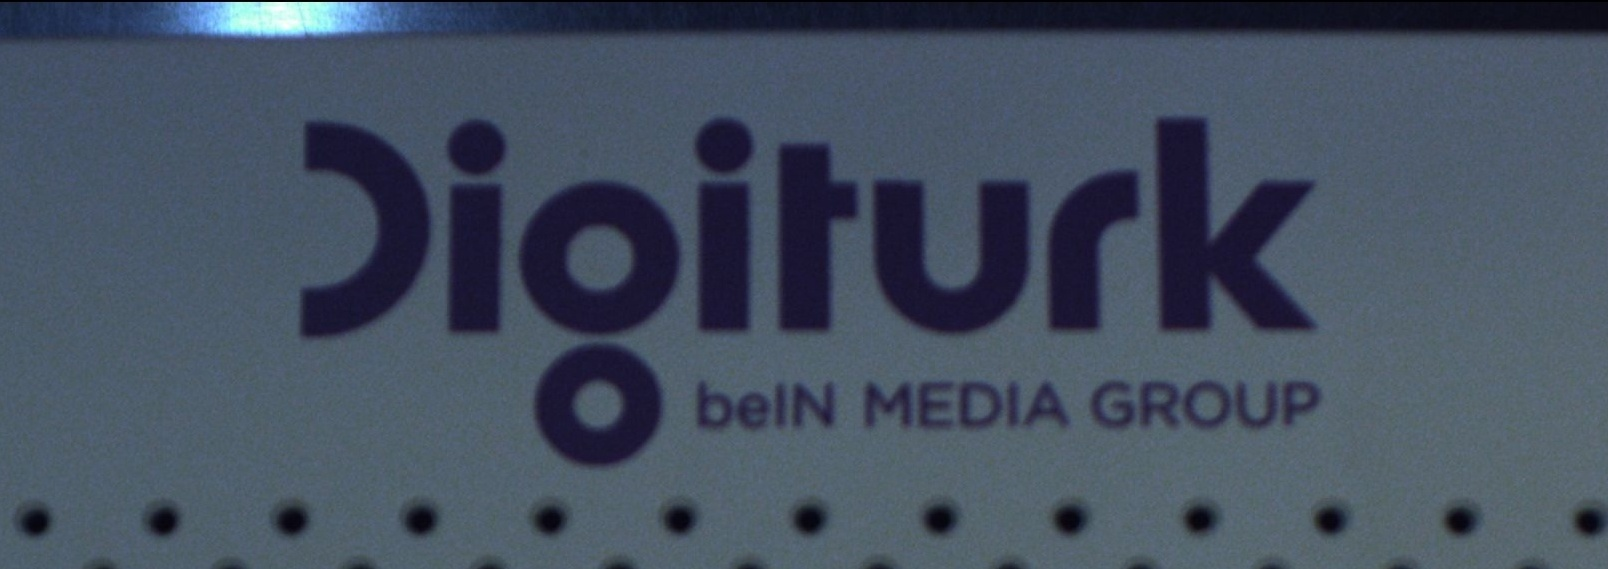BW_H168ADigiturk: (270, 74, 1348, 474)
